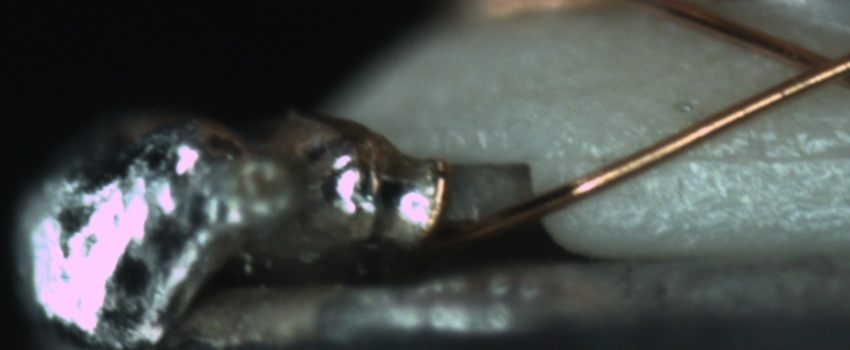CL: (773, 35, 850, 94)
DL: (674, 125, 849, 189)
TE: (341, 114, 453, 258)
